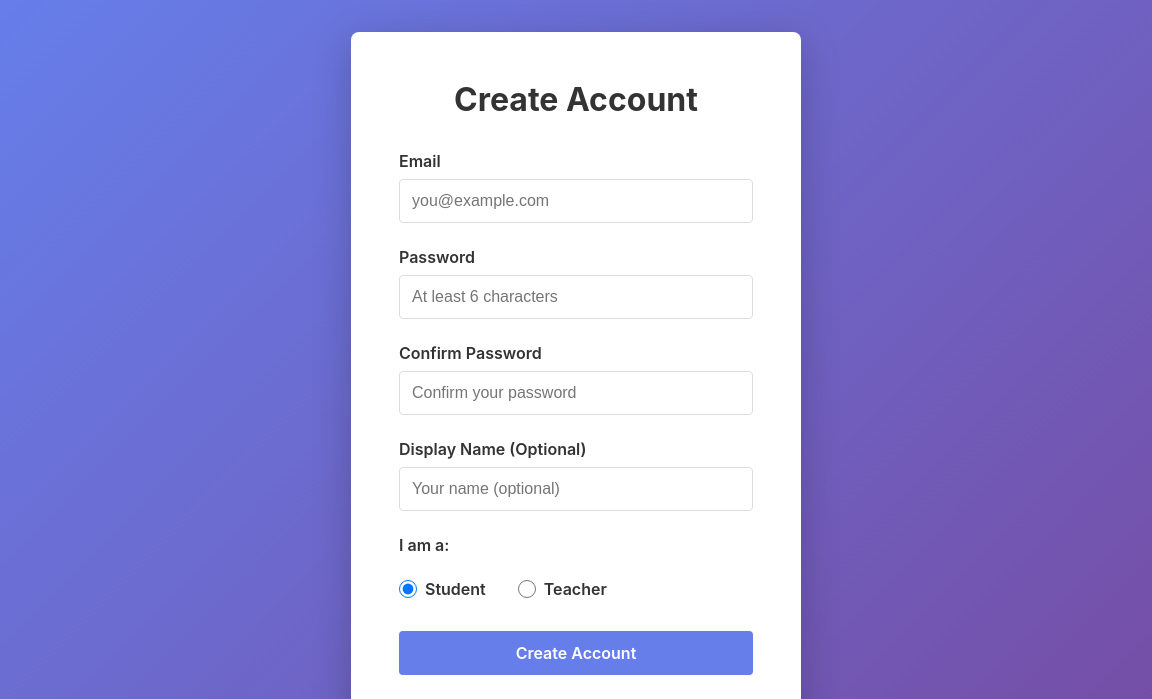
Test: RegisterPage Component › Form Validation › should validate password match
Type "test@example.com" into the field labelled "Email".
click(576, 201); type("test@example.com")  # box [399,179,753,223]
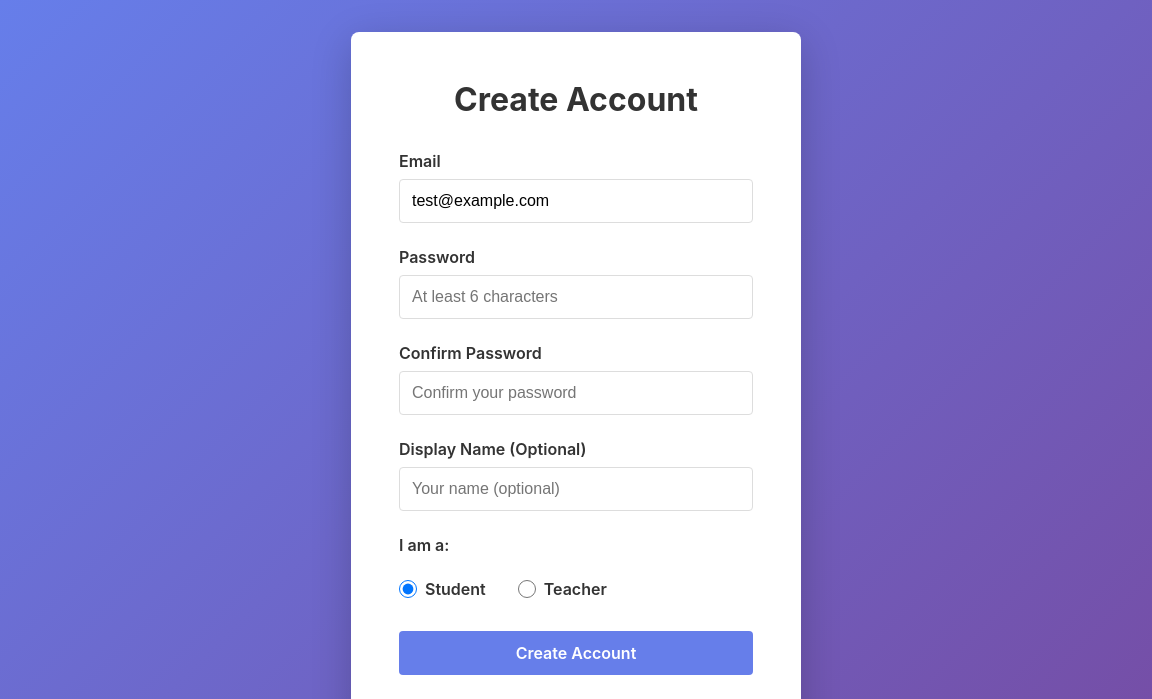
Type "password123" into the password field labelled "Password".
click(576, 297); type("password123")  # box [399,275,753,319]
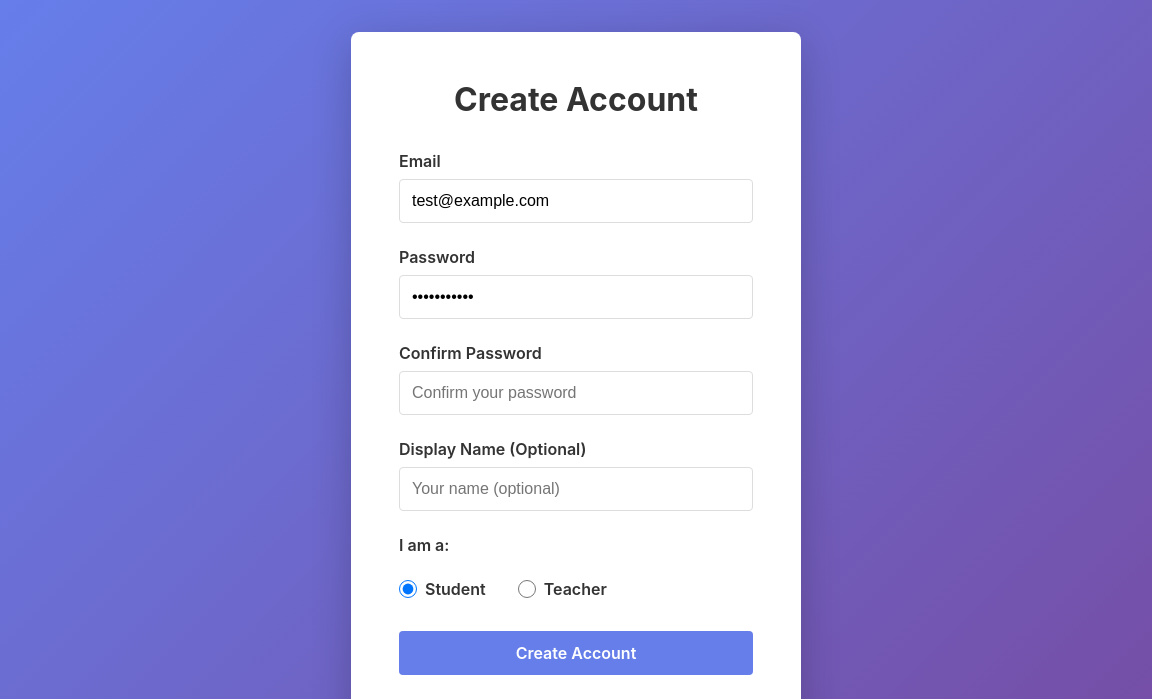
Type "different123" into the password field labelled "Confirm Password".
click(576, 393); type("different123")  # box [399,371,753,415]
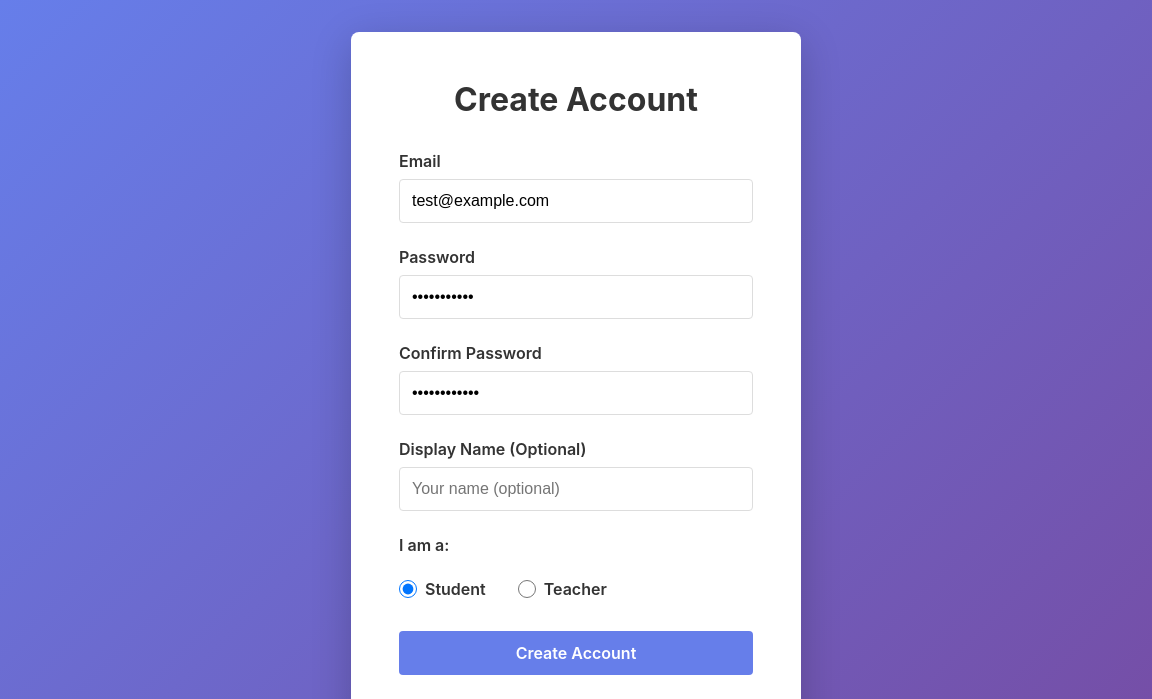
Click the button "Create Account".
click(576, 653)  # box [399,631,753,675]
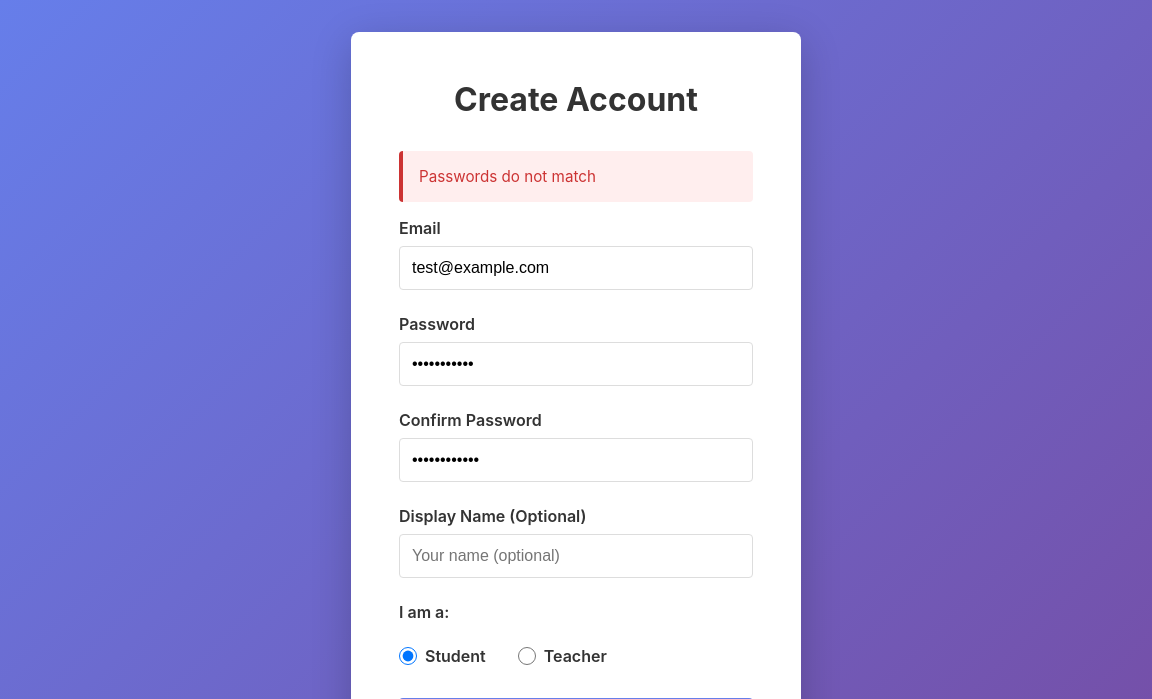
Expected: the text "Passwords do not match" is shown, [399,151,753,202]
